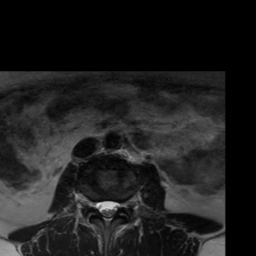CCS_normal: (103, 195, 111, 226)
LFS_stenosis: (118, 195, 125, 212)
LLS_normal: (111, 195, 118, 221)
RFS_stenosis: (89, 195, 96, 215)
RLS_normal: (97, 195, 103, 217)
